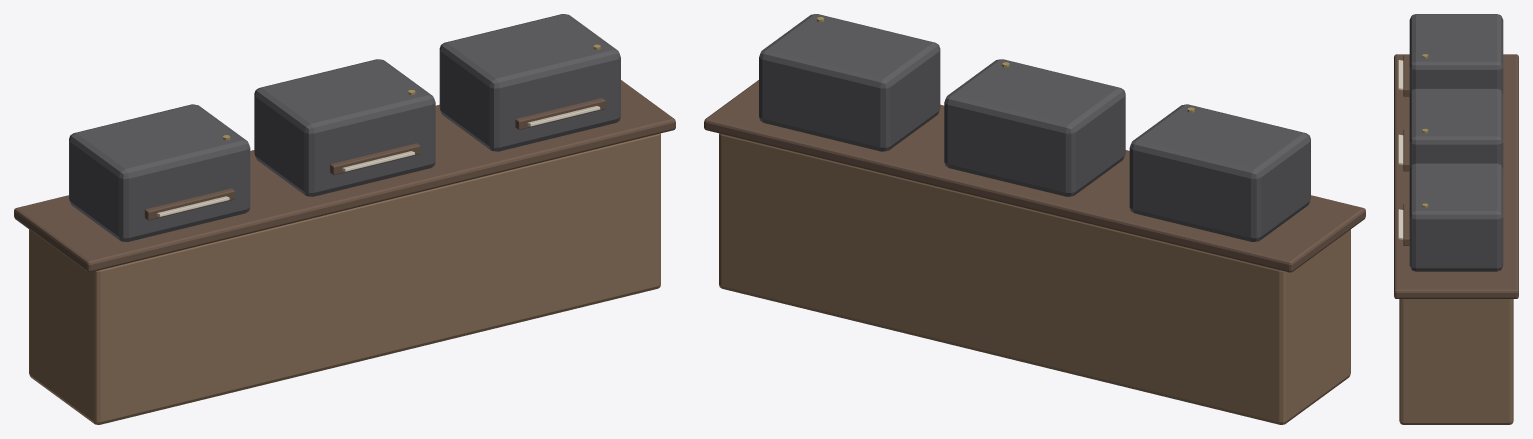
3 renders of one model, left to right at view 1: azimuth 30°, elevation 25°; view 2: azimuth 150°, elevation 25°; view 3: azimuth 270°, elevation 25°, orthographic. The views are drawn at different scales.
Visible parts, largest first — view 1: printerRow; view 2: printerRow; view 3: printerRow.
Boxes of the visible parts, x1,y1,x2,y2 form: printerRow: [14, 14, 675, 424]; printerRow: [704, 14, 1365, 424]; printerRow: [1394, 14, 1518, 424].
Bounding box in the file's own units: 2.7 × 1.07 × 0.6.
